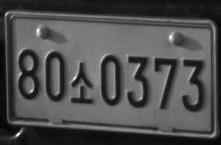0: (43, 50, 66, 101), (100, 53, 121, 106)
3: (181, 58, 205, 112), (126, 55, 149, 108)
7: (154, 57, 177, 109)
8: (16, 48, 40, 99)
소: (70, 61, 93, 104)
